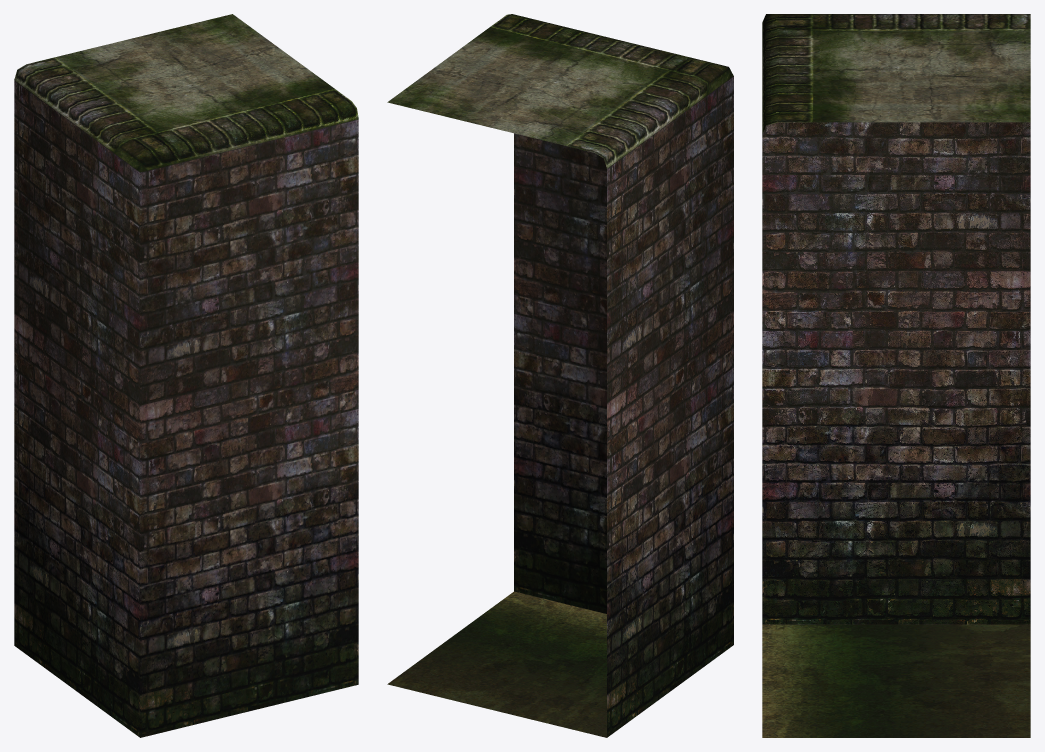
File: floor_high_convex.DAE
The picture shows the model from 3 angles, left to right: view 1: azimuth 30°, elevation 25°; view 2: azimuth 150°, elevation 25°; view 3: azimuth 270°, elevation 25°; orthographic projection. The views are drawn at different scales.
Visible parts, largest first — view 1: floor_high_corner_convex_brick, floor_high_corner_convex; view 2: floor_high_corner_convex_brick, floor_high_corner_convex; view 3: floor_high_corner_convex_brick, floor_high_corner_convex.
Boxes of the visible parts, x1,y1,x2,y2 form: floor_high_corner_convex_brick: (14,80,358,737); floor_high_corner_convex: (14,14,358,172); floor_high_corner_convex_brick: (514,76,733,737); floor_high_corner_convex: (387,14,733,737); floor_high_corner_convex_brick: (762,122,1030,624); floor_high_corner_convex: (762,14,1030,737).
Size of the model in its own units: 1.78 by 1.78 by 4.5.
